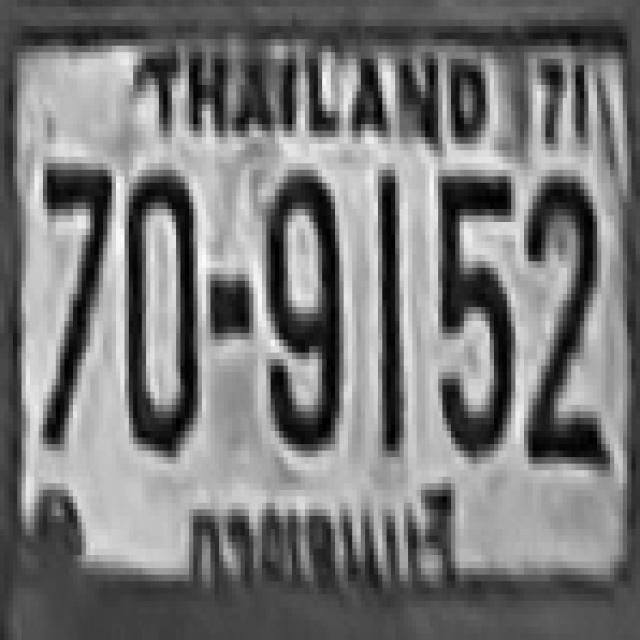0: (125, 163, 193, 451)
1: (374, 170, 399, 450)
2: (522, 167, 599, 460), (522, 166, 595, 441)
5: (434, 170, 511, 450)
7: (39, 157, 107, 444)
9: (262, 163, 339, 444)
Kanchanaburi: (181, 486, 472, 612)
